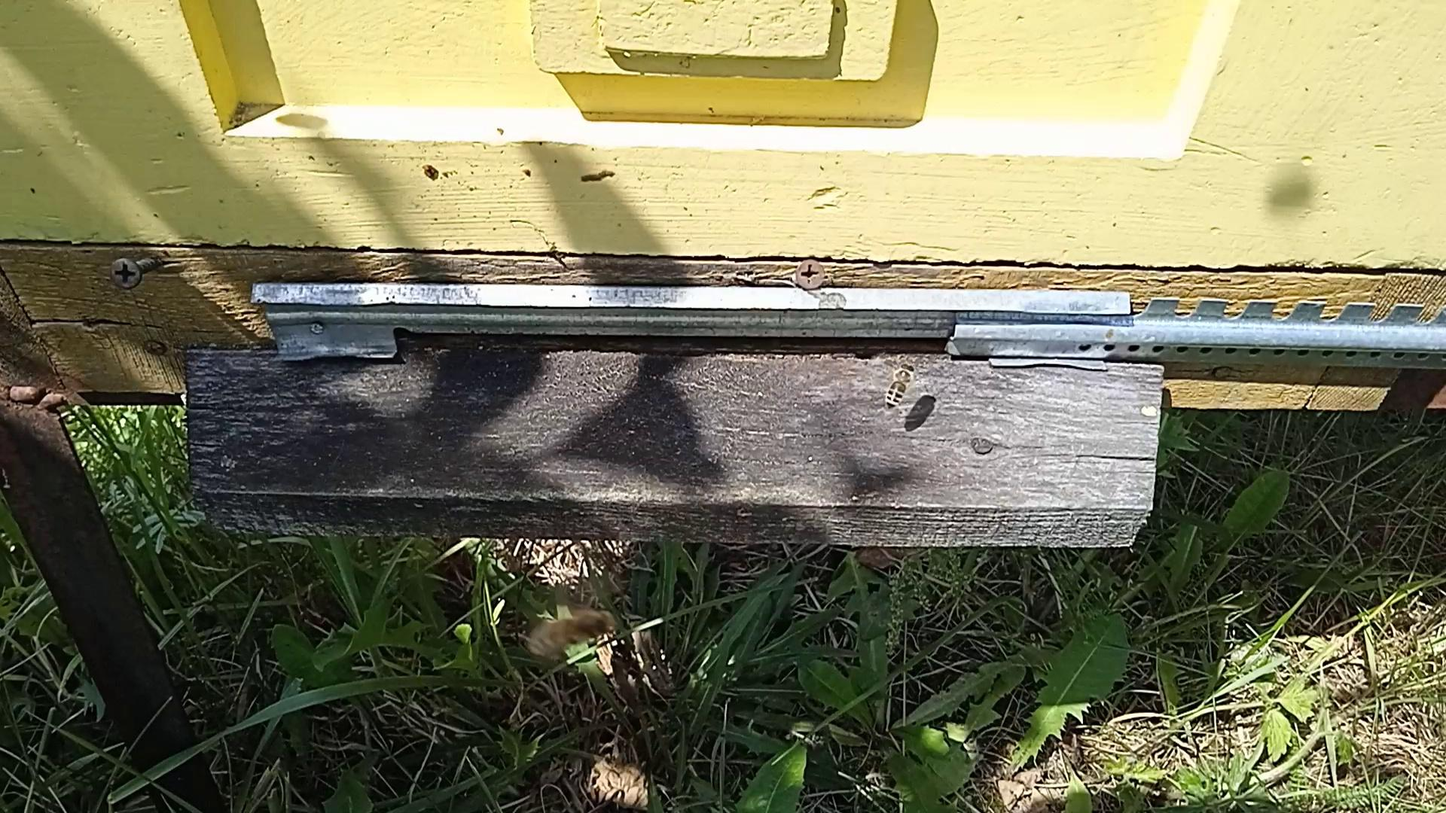worker-bee: (528, 611, 613, 658), (883, 362, 917, 409)
